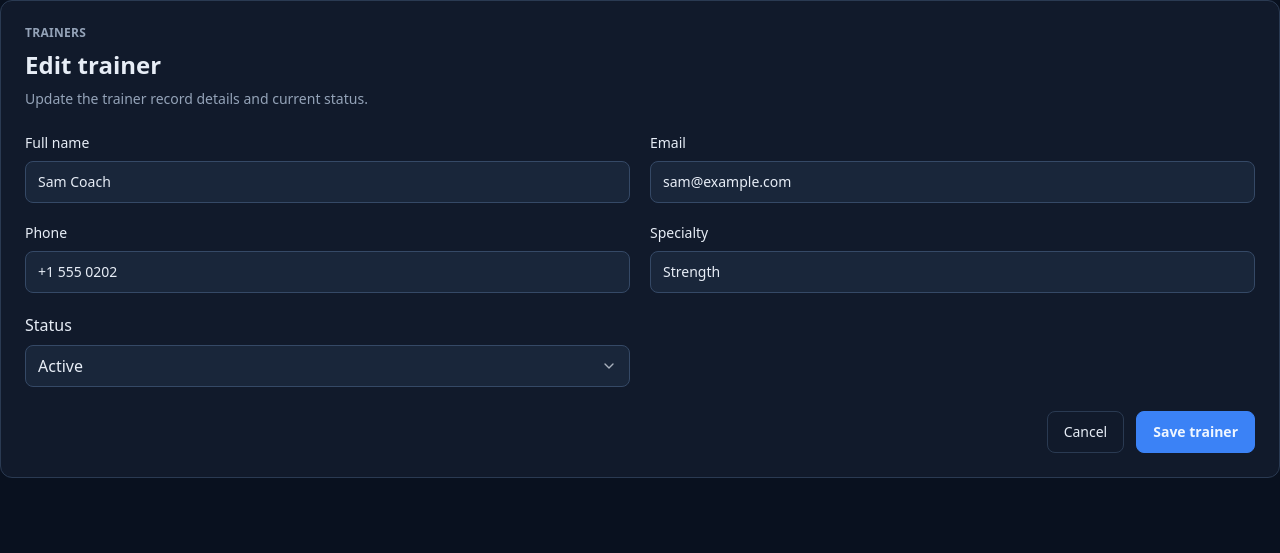
Test: EditTrainerForm › renders action-level failure message
The image size is (1280, 553).
What coordinates should you click on to do the following:
click the button "Save trainer"
I would click on:
 (1196, 432)
Its box is left=1136, top=411, right=1255, bottom=453.
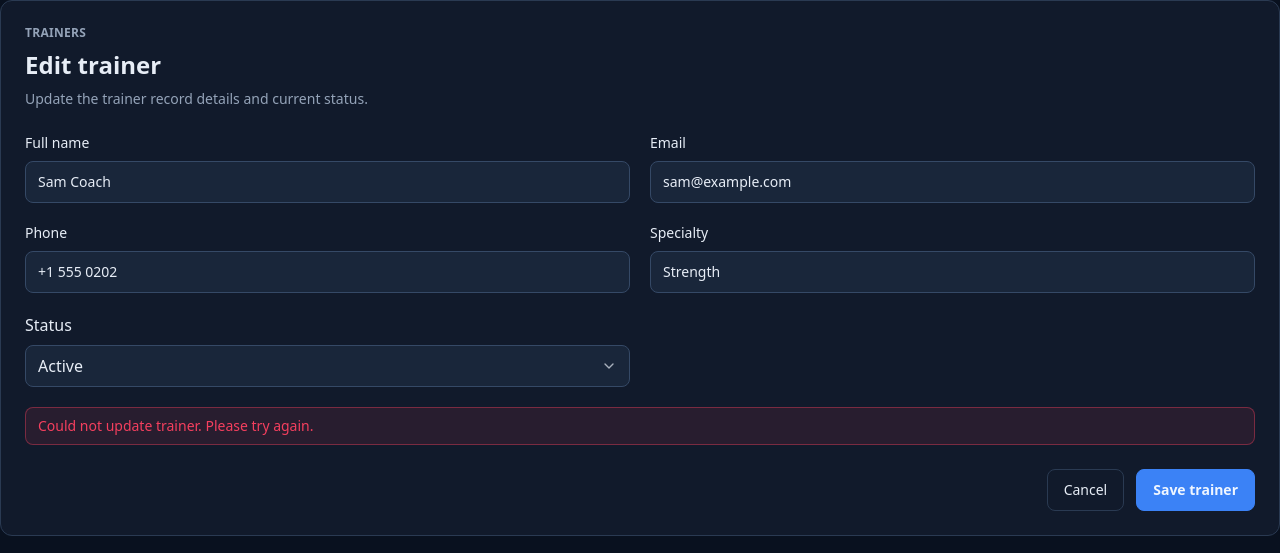
Check: the message reads "Could not update trainer. Please try again.", box left=38, top=416, right=314, bottom=435
